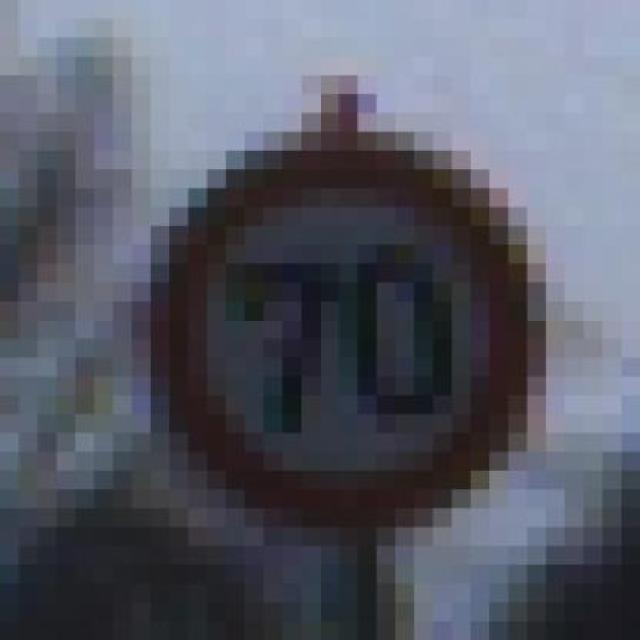forb_speed_over_70: (160, 144, 542, 524)
